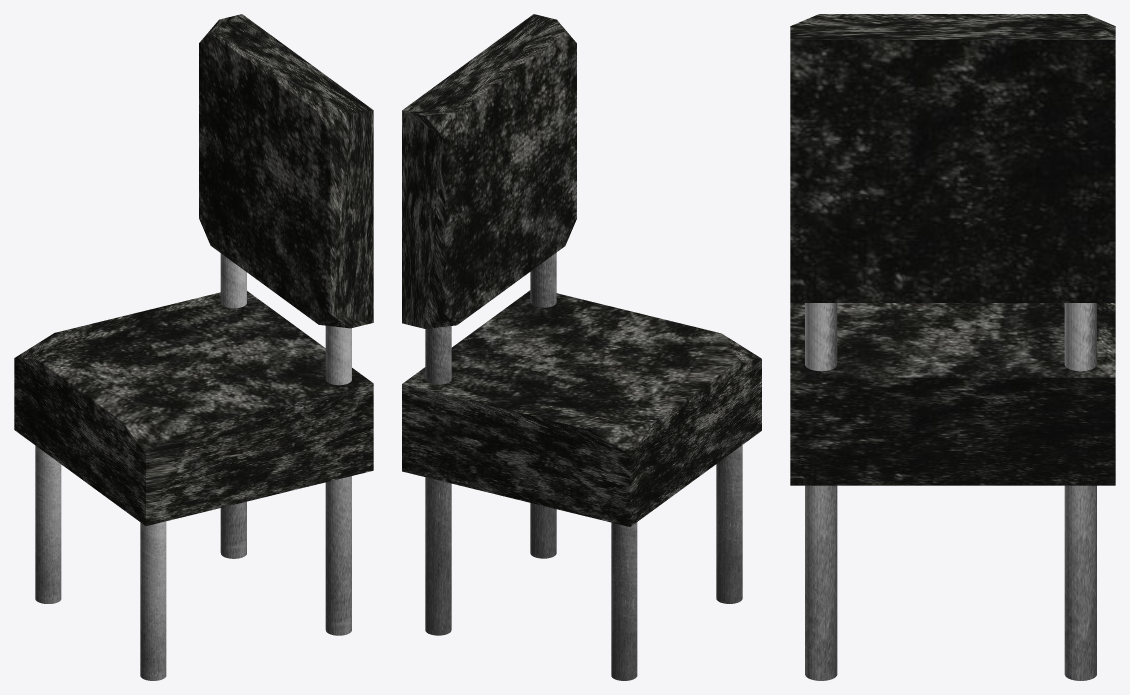
File: Chair.glb
3 renders of one model, left to right at view 1: azimuth 30°, elevation 25°; view 2: azimuth 150°, elevation 25°; view 3: azimuth 270°, elevation 25°, orthographic. The views are drawn at different scales.
Visible parts, largest first — view 1: Cube, Cube.001, Cylinder.003, Cylinder.005, Cylinder.006, Cylinder.004; view 2: Cube, Cube.001, Cylinder.004, Cylinder.006, Cylinder.005, Cylinder.003; view 3: Cube.001, Cube, Cylinder.004, Cylinder.003.
Part boxes in pixels (<box>): Cube: <box>14,291,373,525</box>; Cube.001: <box>199,14,373,328</box>; Cylinder.003: <box>325,325,351,635</box>; Cylinder.005: <box>140,521,166,680</box>; Cylinder.006: <box>35,445,61,603</box>; Cylinder.004: <box>220,253,246,558</box>; Cube: <box>402,290,761,526</box>; Cube.001: <box>402,14,576,328</box>; Cylinder.004: <box>425,326,451,635</box>; Cylinder.006: <box>611,522,637,680</box>; Cylinder.005: <box>716,445,742,603</box>; Cylinder.003: <box>530,252,556,558</box>; Cube.001: <box>790,14,1115,302</box>; Cube: <box>790,303,1115,485</box>; Cylinder.004: <box>1064,303,1096,680</box>; Cylinder.003: <box>805,303,837,680</box>.
Bounding box in the file's own units: 0.6513 × 1.43 × 0.6513.
2 materials, 2 textured.
